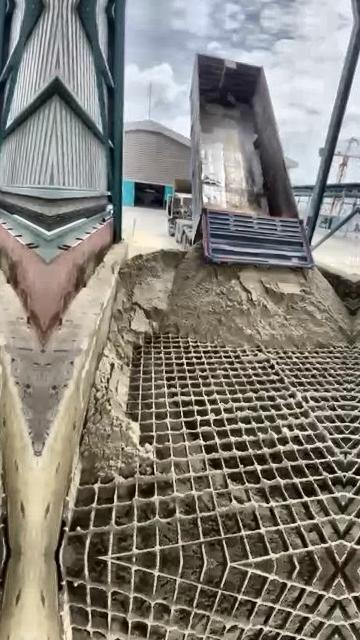sand: (81, 245, 351, 481)
